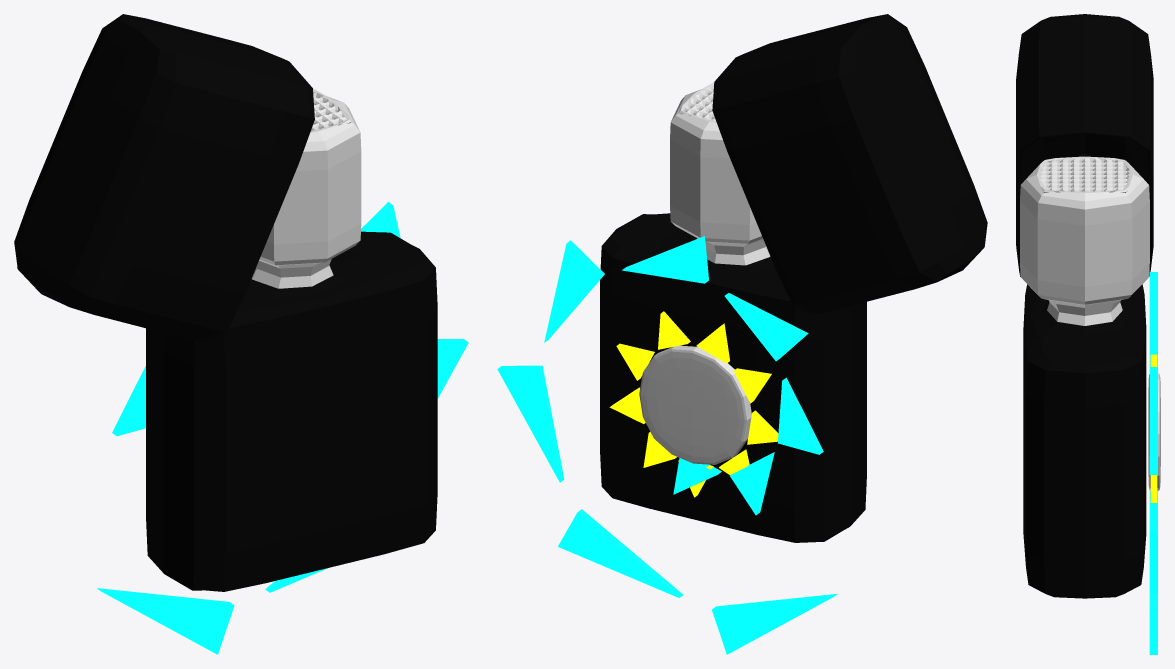
Rendered from SunFireGen.fbx.
3 renders of one model, left to right at view 1: azimuth 30°, elevation 25°; view 2: azimuth 150°, elevation 25°; view 3: azimuth 270°, elevation 25°, orthographic. The views are drawn at different scales.
Parts seen in each view (by area): view 1: Cube, Cube.001, Cube.004; view 2: Cube.001, Cube, Cube.004, Cube.002, Cube.003; view 3: Cube, Cube.001, Cube.004, Cube.002, Cube.003.
Boxes of the visible parts, x1,y1,x2,y2 form: Cube: [146, 88, 437, 591]; Cube.001: [14, 14, 314, 342]; Cube.004: [97, 202, 468, 654]; Cube.001: [712, 14, 987, 314]; Cube: [600, 82, 866, 542]; Cube.004: [497, 236, 837, 654]; Cube.002: [639, 345, 751, 464]; Cube.003: [609, 311, 778, 497]; Cube: [1020, 156, 1149, 598]; Cube.001: [1016, 14, 1153, 276]; Cube.004: [1149, 272, 1157, 654]; Cube.002: [1148, 373, 1160, 490]; Cube.003: [1150, 354, 1157, 502].
Bounding box in the file's own units: 29.5 × 40.8 × 9.23.
